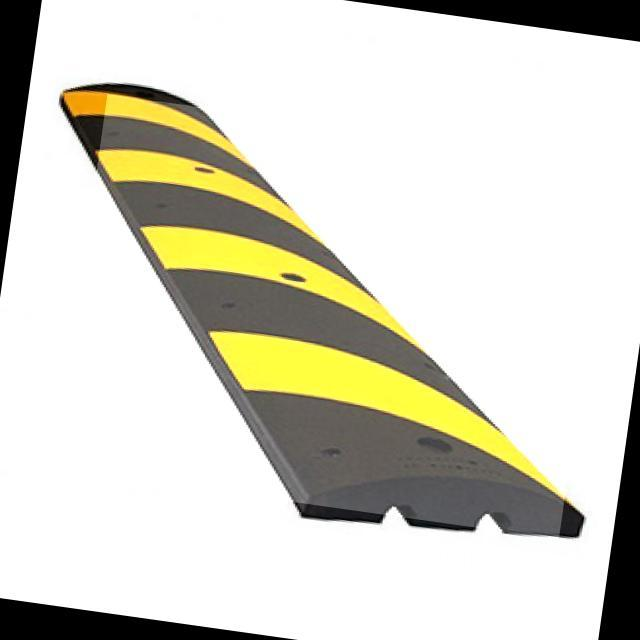speedbreaker: (54, 94, 612, 540)
